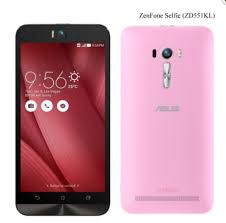asus: (13, 20, 111, 217), (119, 21, 217, 218)
